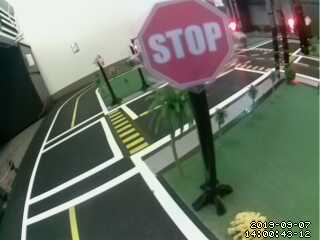Stop_Sign: (130, 2, 242, 90)
